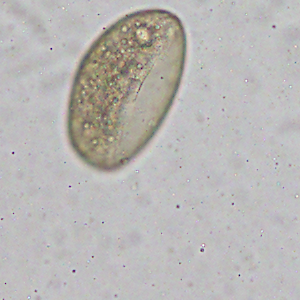Fasciola_hepatica_egg: (65, 7, 186, 173)
